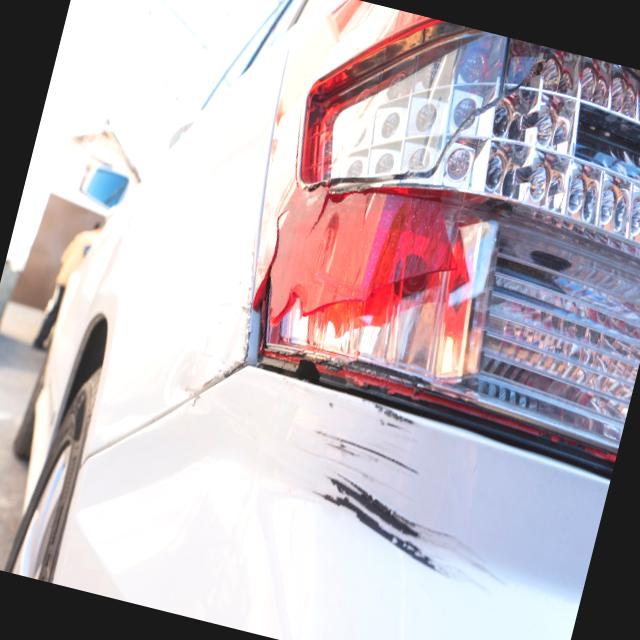Rayure: (275, 385, 522, 632)
